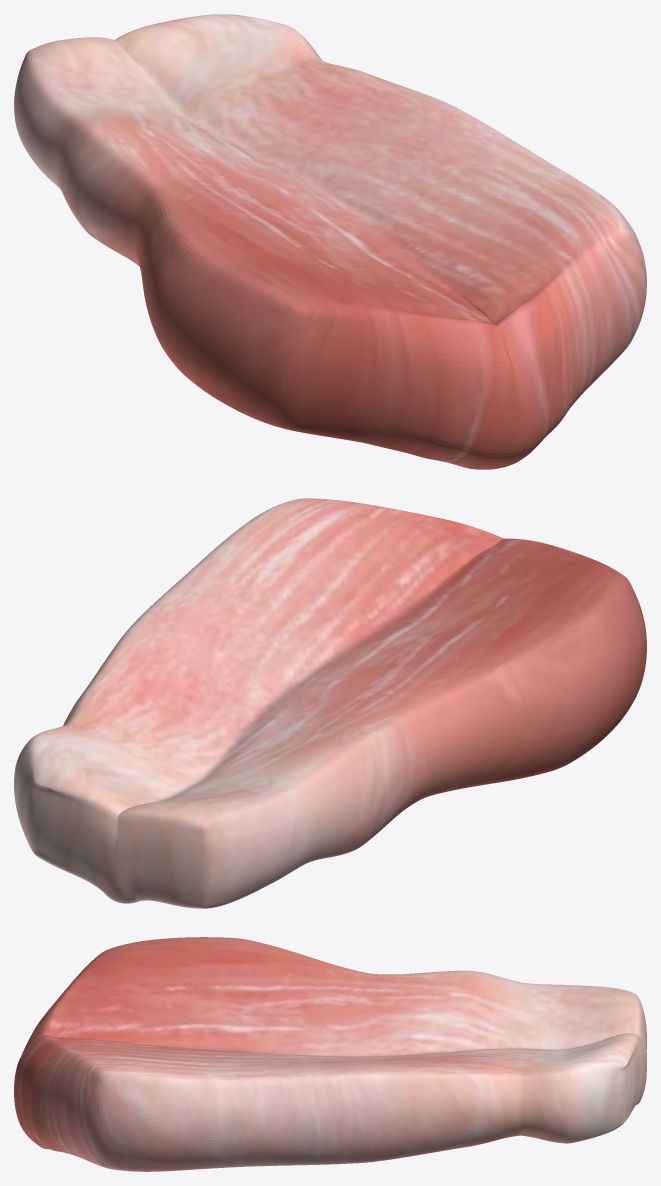
Rendered from RawChicken.fbx.
The picture shows the model from 3 angles, top to bottom: view 1: azimuth 30°, elevation 25°; view 2: azimuth 150°, elevation 25°; view 3: azimuth 270°, elevation 25°; orthographic projection. The views are drawn at different scales.
Parts seen in each view (by area): view 1: RawChicken; view 2: RawChicken; view 3: RawChicken.
Part boxes in pixels (x1=…): RawChicken: x1=14, y1=14, x2=646, y2=469; RawChicken: x1=14, y1=498, x2=646, y2=908; RawChicken: x1=14, y1=937, x2=646, y2=1171.
Size of the model in its own units: 437 by 181 by 740.
